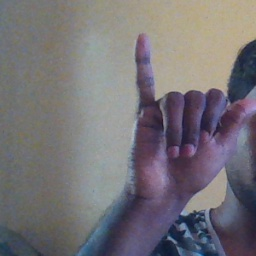J: (124, 32, 256, 193)
